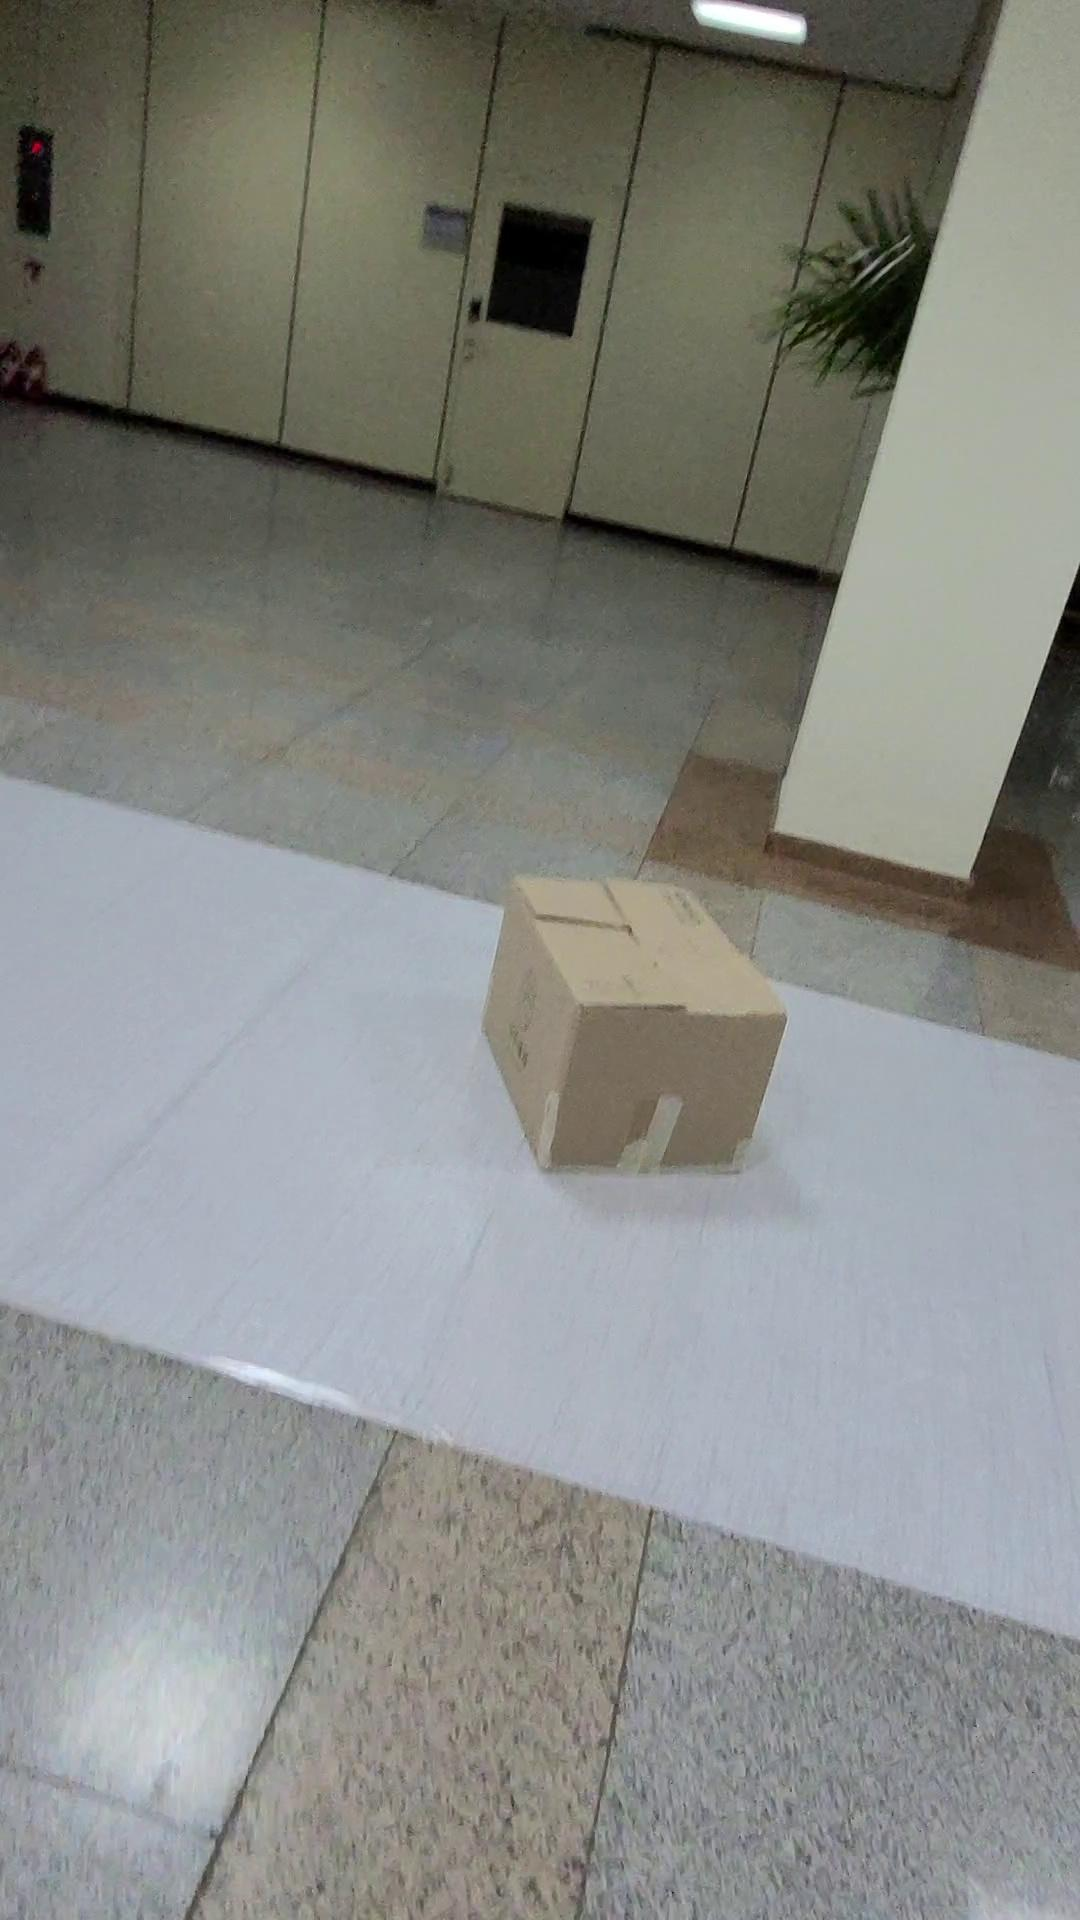Box: (436, 828, 825, 1222)
